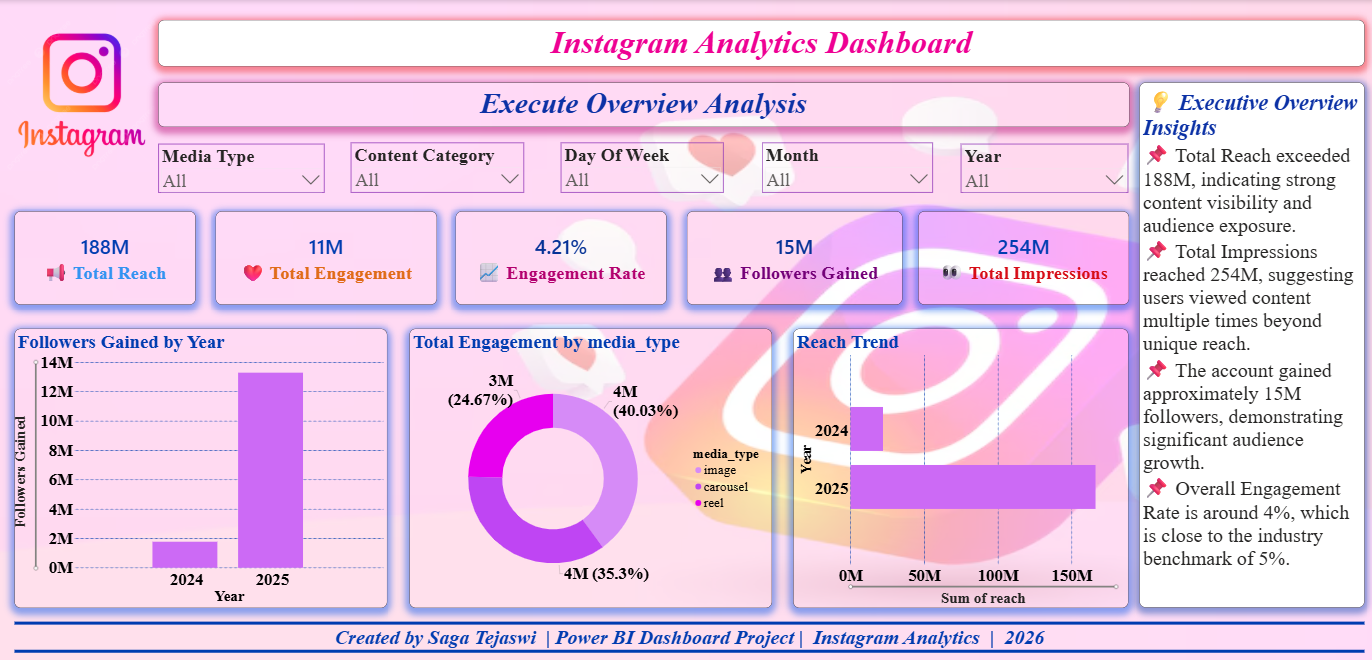

What the dashboard file says about the page in this screenshot:
{"tool":"powerbi","page":{"name":"Execute Overview","canvas":[5500,2650],"ordinal":0},"visuals":[{"type":"cardVisual","fields":{"Data":["instagram_cleaned.Total Engagement"]},"box":[874.6,842.8,883.8,373.5],"z":0},{"type":"cardVisual","fields":{"Data":["instagram_cleaned.Followers Gained"]},"box":[2756,842.8,861,373.5],"z":1000},{"type":"cardVisual","fields":{"Data":["instagram_cleaned.Total Reach"]},"box":[68.3,842.8,724.3,373.5],"z":2000},{"type":"cardVisual","fields":{"Data":["instagram_cleaned.Total Impressions"]},"box":[3680.8,842.8,842.8,373.5],"z":3000},{"type":"barChart","title":"Reach Trend","fields":{"Category":["instagram_cleaned.post_date.Variation.Date Hierarchy.Year","instagram_cleaned.post_date.Variation.Date Hierarchy.Quarter","instagram_cleaned.post_date.Variation.Date Hierarchy.Month","instagram_cleaned.post_date.Variation.Date Hierarchy.Day"],"Y":["Sum(instagram_cleaned.reach)"]},"box":[3184.2,1312,1339.3,1116.1],"z":4000},{"type":"cardVisual","fields":{"Data":["instagram_cleaned.Avg Engagement Rate"]},"box":[1835.8,842.8,842.8,373.5],"z":5000},{"type":"columnChart","fields":{"Category":["instagram_cleaned.post_date.Variation.Date Hierarchy.Year","instagram_cleaned.post_date.Variation.Date Hierarchy.Quarter","instagram_cleaned.post_date.Variation.Date Hierarchy.Month","instagram_cleaned.post_date.Variation.Date Hierarchy.Day"],"Y":["instagram_cleaned.Followers Gained"]},"box":[68.3,1312,1489.6,1116.1],"z":6000},{"type":"donutChart","fields":{"Category":["instagram_cleaned.media_type"],"Y":["instagram_cleaned.Total Engagement"]},"box":[1649.1,1312,1448.6,1116.1],"z":7000},{"type":"textbox","box":[644.5,79.9,4821.5,184.9],"z":8000},{"type":"image","box":[0,0,678.8,760.8],"z":9000},{"type":"slicer","fields":{"Values":["instagram_cleaned.media_type"]},"box":[642.3,574,665.1,195.9],"z":10000},{"type":"slicer","fields":{"Values":["instagram_cleaned.content_category"]},"box":[1412.2,569.4,692.4,200.4],"z":11000},{"type":"slicer","fields":{"Values":["instagram_cleaned.day_of_week"]},"box":[2254.9,569.4,651.4,200.4],"z":12000},{"type":"slicer","fields":{"Values":["instagram_cleaned.month"]},"box":[3056.7,569.4,683.3,200.4],"z":13000},{"type":"slicer","fields":{"Values":["instagram_cleaned.year"]},"box":[3853.9,574,669.6,195.9],"z":14000},{"type":"textbox","box":[642.3,328,3881.2,177.7],"z":15000},{"type":"shape","box":[69.9,2483.2,5396.1,15],"z":16000},{"type":"shape","box":[69.9,2558.1,5396.1,89.9],"z":17000},{"type":"textbox","box":[69.9,2498.2,5396.1,104.9],"z":18000},{"type":"textbox","box":[4566.7,329.8,899.3,2098.5],"z":18001}]}

Visuals, with their boxes in screenshot pixels (x1, y1, x2, y2), scaled from the page's 5500x2650 canvas onto the 1372x660 screenshot:
cardVisual - instagram_cleaned.Total Engagement: (left=218, top=210, right=439, bottom=303)
cardVisual - instagram_cleaned.Followers Gained: (left=687, top=210, right=902, bottom=303)
cardVisual - instagram_cleaned.Total Reach: (left=17, top=210, right=198, bottom=303)
cardVisual - instagram_cleaned.Total Impressions: (left=918, top=210, right=1128, bottom=303)
"Reach Trend" barChart: (left=794, top=327, right=1128, bottom=605)
cardVisual - instagram_cleaned.Avg Engagement Rate: (left=458, top=210, right=668, bottom=303)
columnChart - instagram_cleaned.post_date.Variation.Date Hierarchy.Year x instagram_cleaned.post_date.Variation.Date Hierarchy.Quarter: (left=17, top=327, right=389, bottom=605)
donutChart - instagram_cleaned.media_type x instagram_cleaned.Total Engagement: (left=411, top=327, right=773, bottom=605)
textbox: (left=161, top=20, right=1364, bottom=66)
image: (left=0, top=0, right=169, bottom=189)
slicer - instagram_cleaned.media_type: (left=160, top=143, right=326, bottom=192)
slicer - instagram_cleaned.content_category: (left=352, top=142, right=525, bottom=192)
slicer - instagram_cleaned.day_of_week: (left=562, top=142, right=725, bottom=192)
slicer - instagram_cleaned.month: (left=763, top=142, right=933, bottom=192)
slicer - instagram_cleaned.year: (left=961, top=143, right=1128, bottom=192)
textbox: (left=160, top=82, right=1128, bottom=126)
shape: (left=17, top=618, right=1364, bottom=622)
shape: (left=17, top=637, right=1364, bottom=659)
textbox: (left=17, top=622, right=1364, bottom=648)
textbox: (left=1139, top=82, right=1364, bottom=605)
